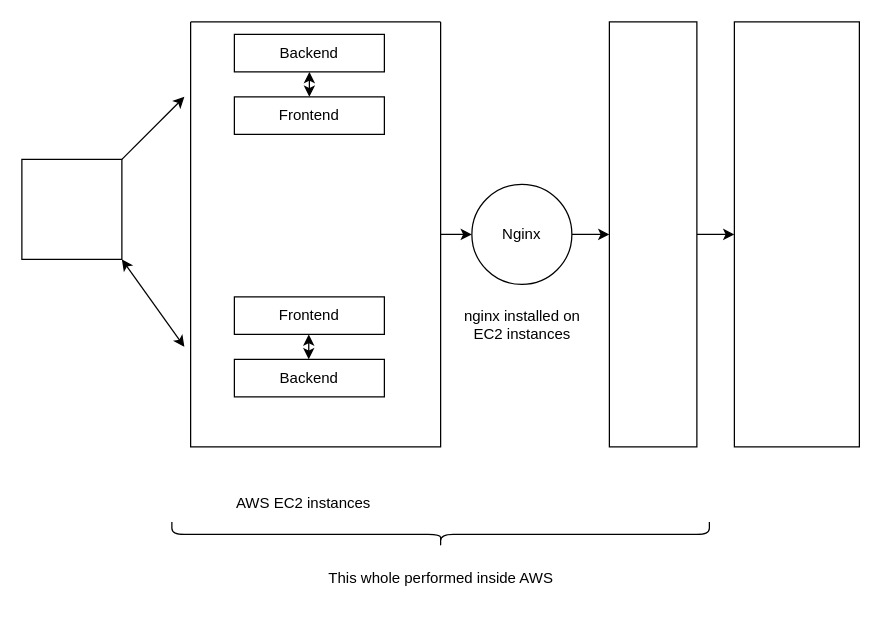
Image size: 881x619. Some labels were removed from this diagram. The centre of each missing label's shape, as x and y in pixels:
AWS Load Balancer: pixel 652 234
Cloud fare Domain name mapping using Load Balancer DNS name.: pixel 796 234
MongoDB: pixel 71 208
